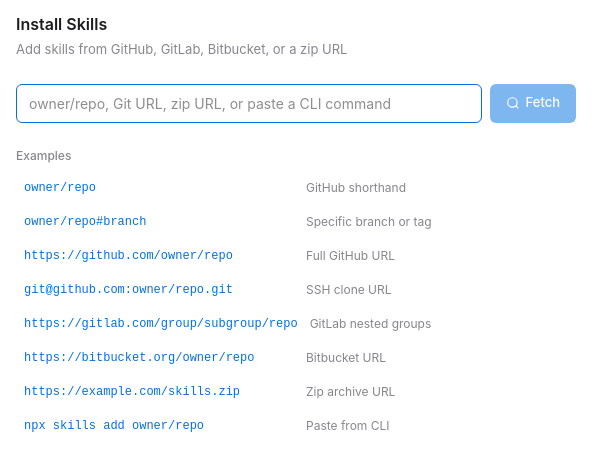
Test: InstallSkills › example buttons › fills with github URL example
Click the button with class "example" that starts with "https://github.com/owner/repo" at (128, 256), box [16,240,576,270]
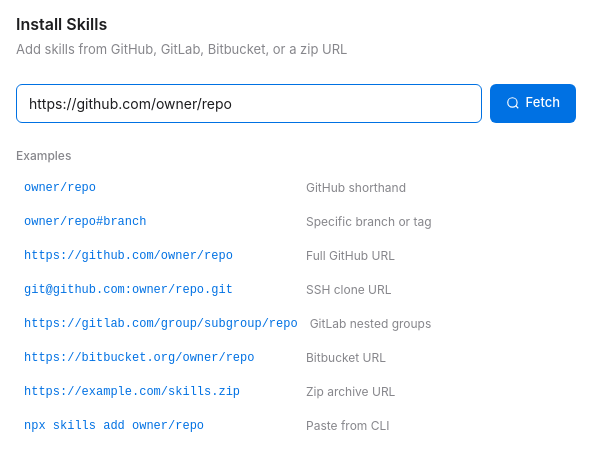
Expected: the field holds "https://github.com/owner/repo", [16,84,482,122]
